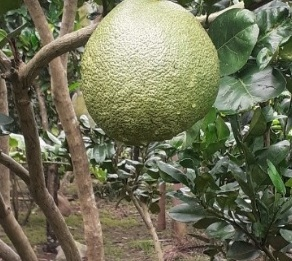Buoi: (84, 1, 223, 150)
